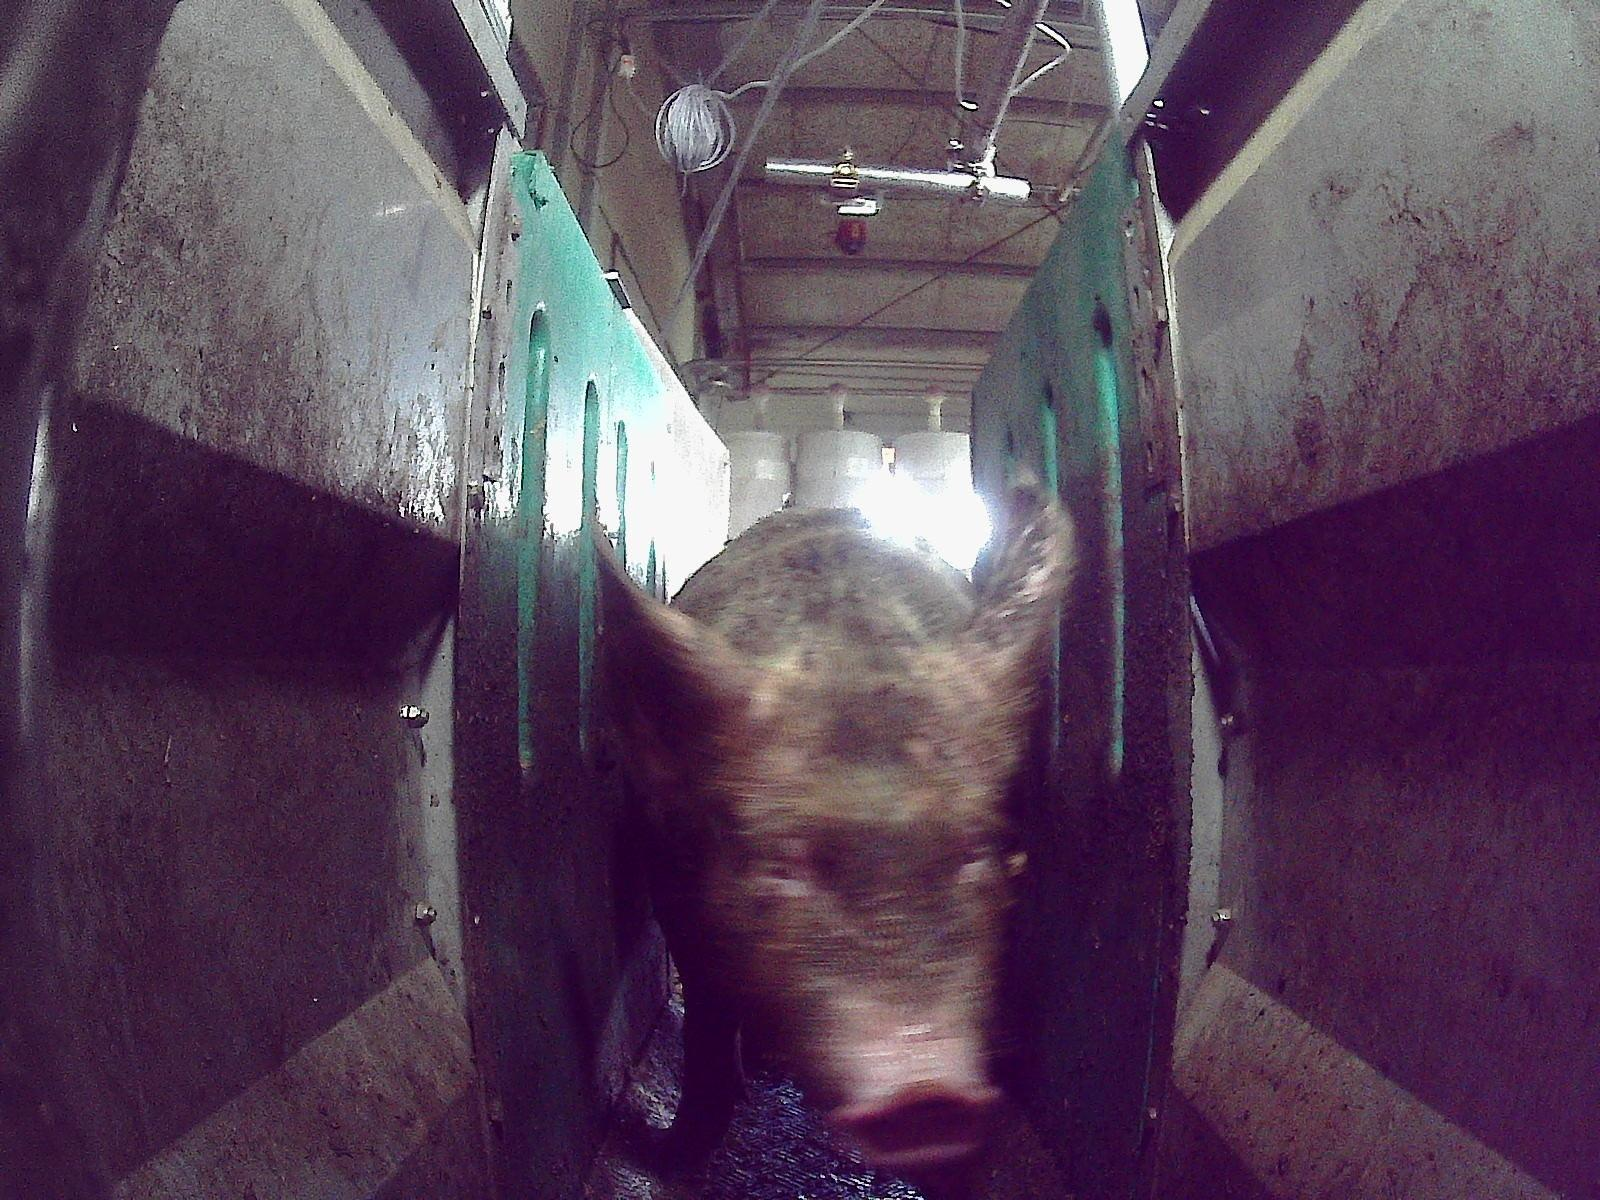Face: (669, 577, 1028, 1167)
